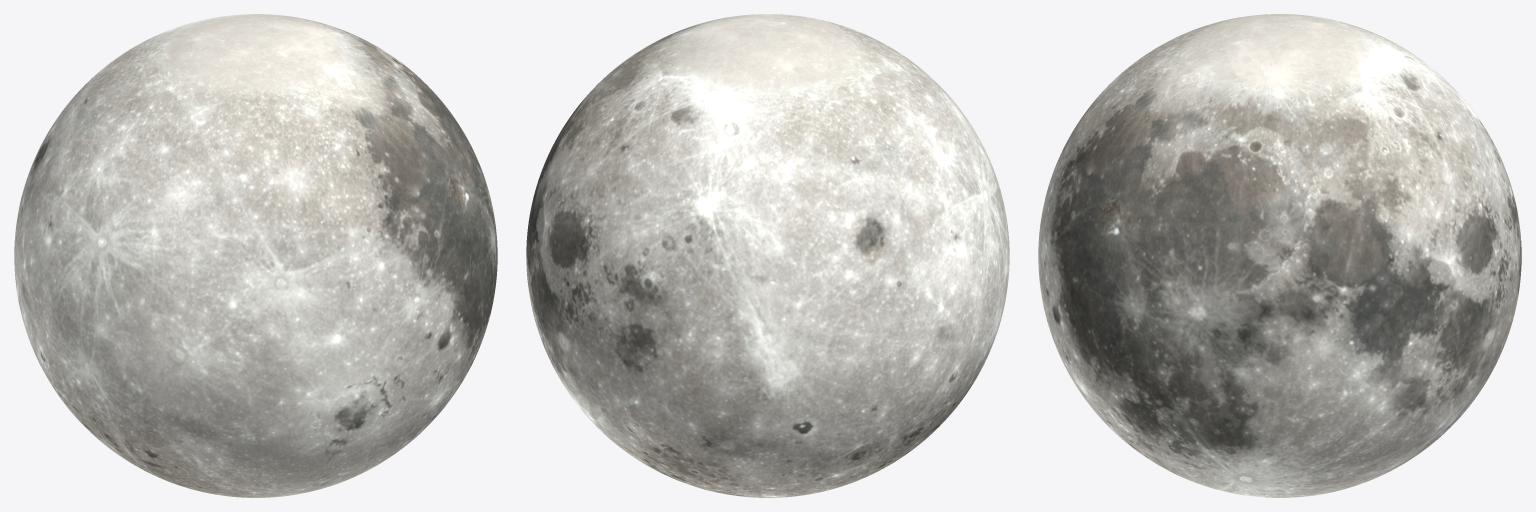
The model's file is game-moon.glb.
3 views of the same model, side by side, from view 1: azimuth 30°, elevation 25°; view 2: azimuth 150°, elevation 25°; view 3: azimuth 270°, elevation 25° (orthographic).
Visible parts, largest first — view 1: Object_2; view 2: Object_2; view 3: Object_2.
Part boxes in pixels (x1,y1,x2,y2): Object_2: (14, 14, 497, 497); Object_2: (526, 14, 1009, 497); Object_2: (1038, 14, 1521, 497).
Size of the model in its own units: 19.94 by 19.99 by 19.94.
Materials: 1 (1 with a texture image).
